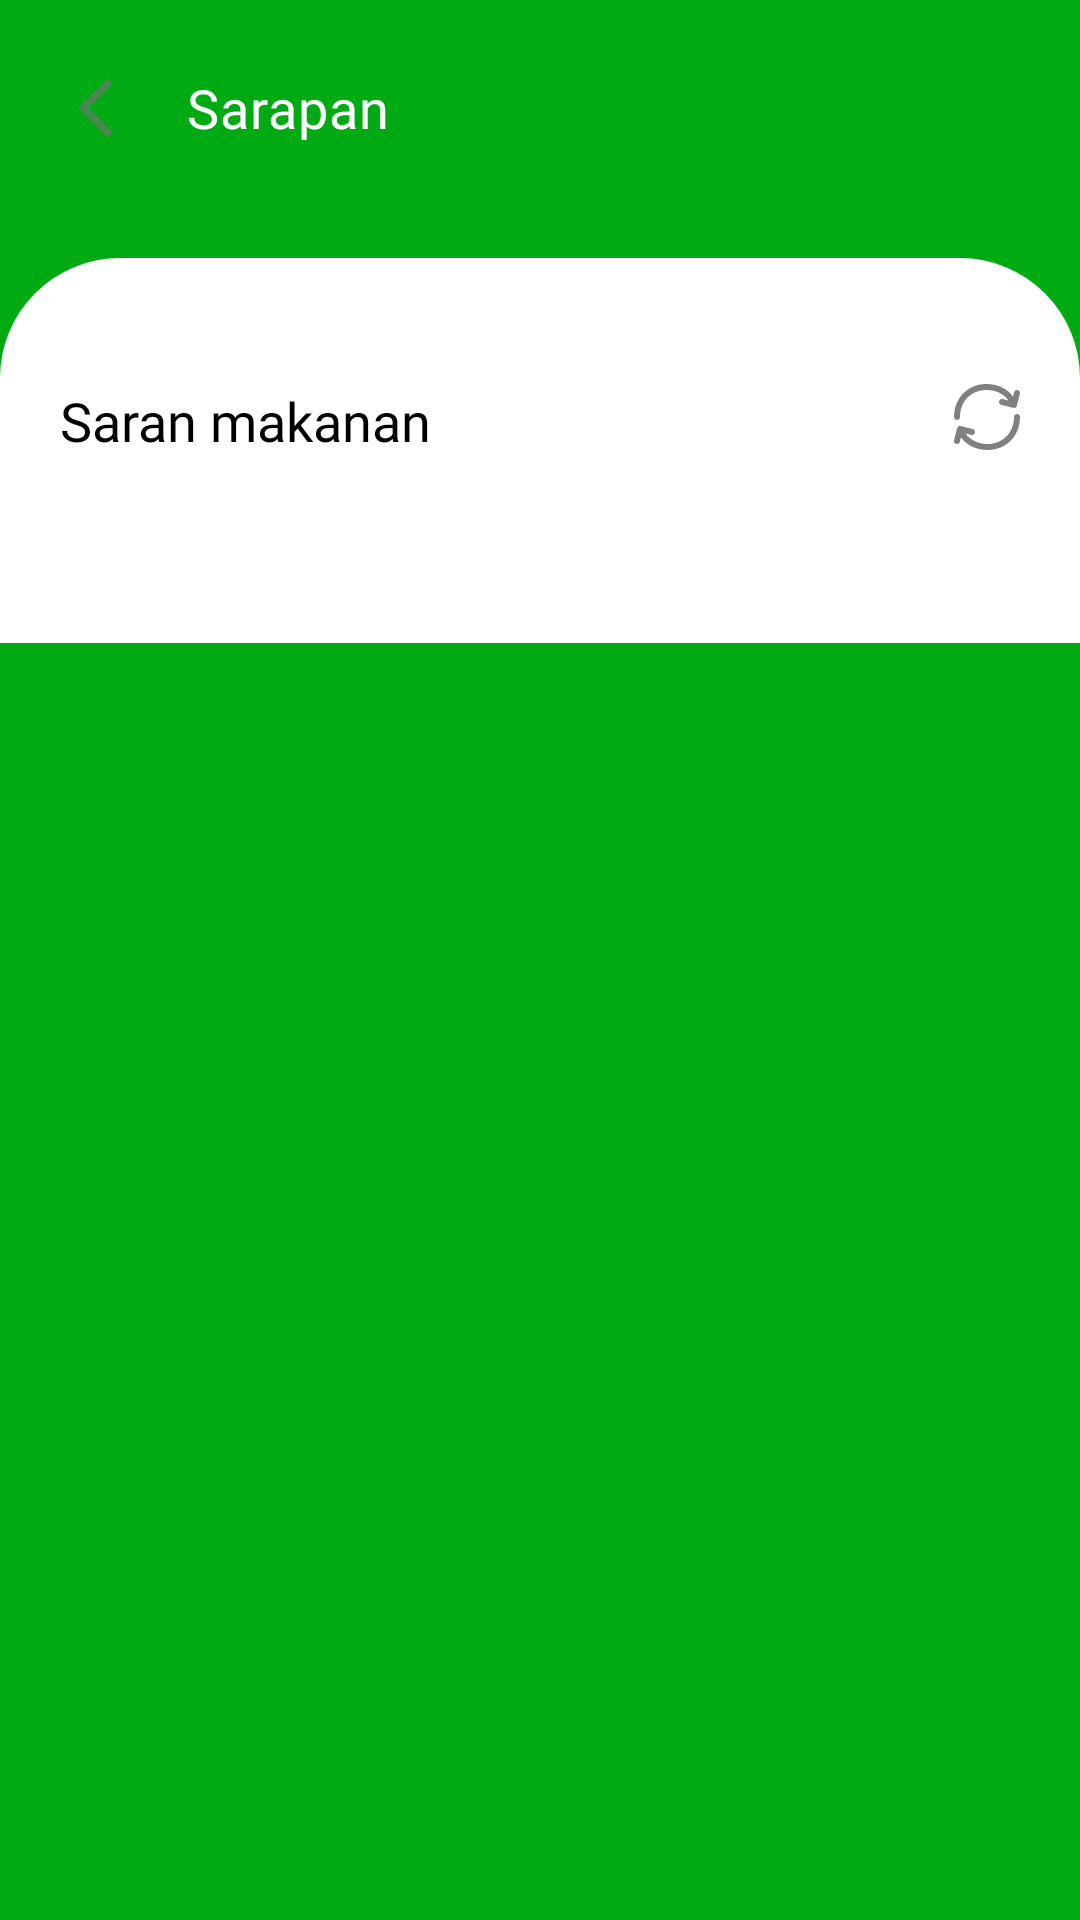

Screen size 1080 × 1920. Icon name, then its box in pixels as (x1, y1, x2, y2):
back: (78, 78, 113, 138)
refresh: (954, 384, 1020, 450)
